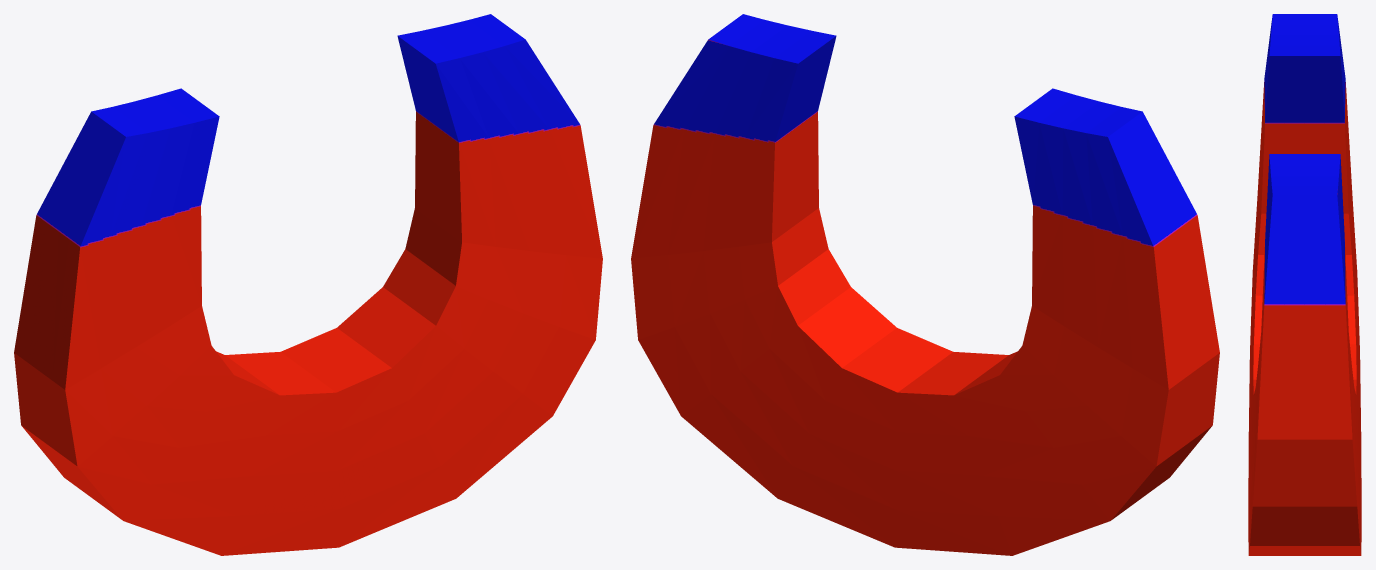
The model's file is Magnet.fbx.
3 renders of one model, left to right at view 1: azimuth 30°, elevation 25°; view 2: azimuth 150°, elevation 25°; view 3: azimuth 270°, elevation 25°, orthographic. The views are drawn at different scales.
Visible parts, largest first — view 1: Magnet; view 2: Magnet; view 3: Magnet.
Part boxes in pixels (<box>): Magnet: <box>14,14,602,555</box>; Magnet: <box>631,14,1219,555</box>; Magnet: <box>1248,14,1361,555</box>.
Size of the model in its own units: 0.5896 by 0.4713 by 0.1159.
